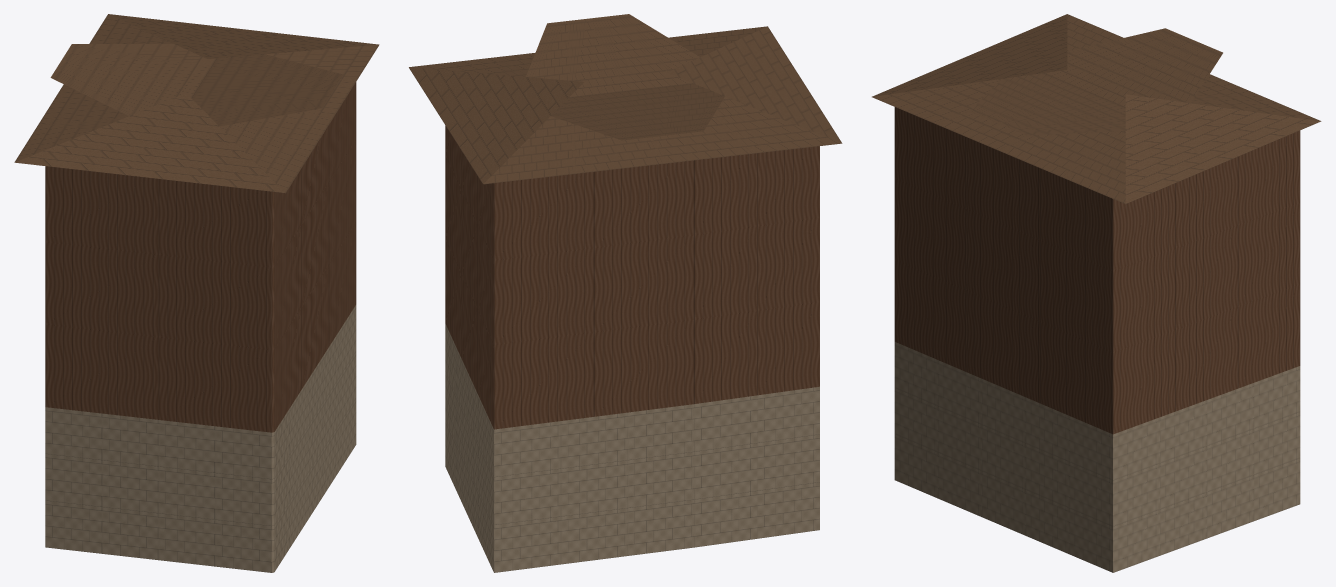
The model's file is bld_c40_34_292.gltf.
3 views of the same model, side by side, from view 1: azimuth 30°, elevation 25°; view 2: azimuth 150°, elevation 25°; view 3: azimuth 270°, elevation 25° (orthographic). The views are drawn at different scales.
Visible parts, largest first — view 1: bld_c40_34_292; view 2: bld_c40_34_292; view 3: bld_c40_34_292.
Boxes of the visible parts, box(x1,y1,x2,y2) form: bld_c40_34_292: box(14, 14, 379, 572); bld_c40_34_292: box(409, 14, 842, 572); bld_c40_34_292: box(872, 14, 1321, 572).
Size of the model in its own units: 15.02 by 15.1 by 15.03.
3 materials, 3 textured.
